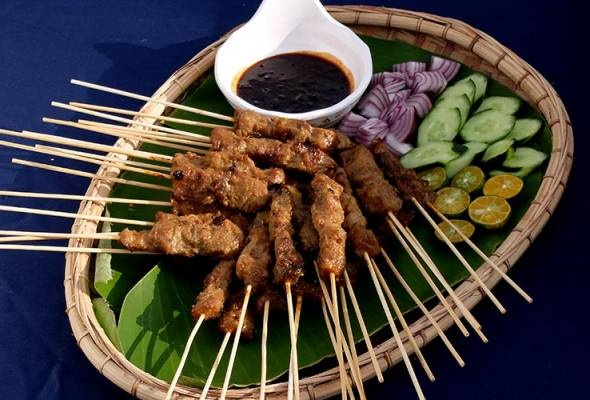sate: (0, 122, 352, 209), (0, 188, 244, 256), (308, 174, 378, 400), (262, 194, 318, 400)
